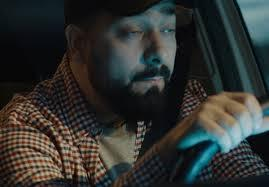Drowsy: (47, 0, 197, 114)
